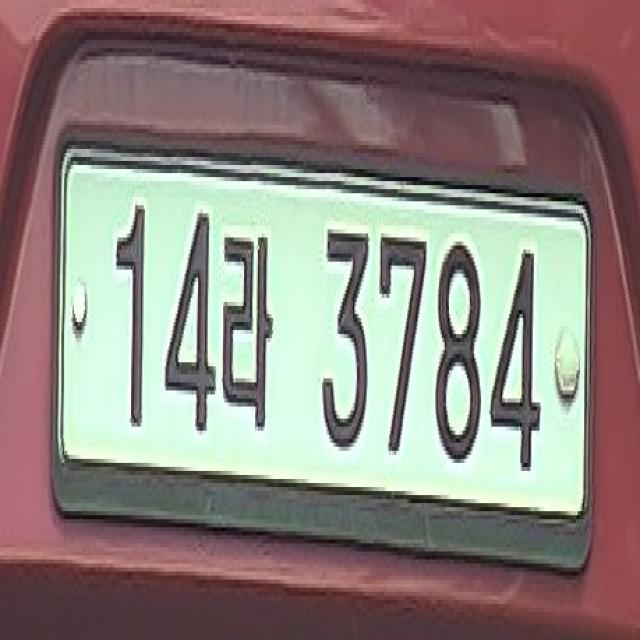1: (110, 177, 156, 439)
3: (317, 213, 375, 455)
4: (484, 229, 548, 471), (163, 193, 219, 443)
7: (374, 221, 431, 463)
8: (431, 233, 485, 471)
la: (220, 221, 282, 435)
license_plate: (46, 124, 597, 584)
